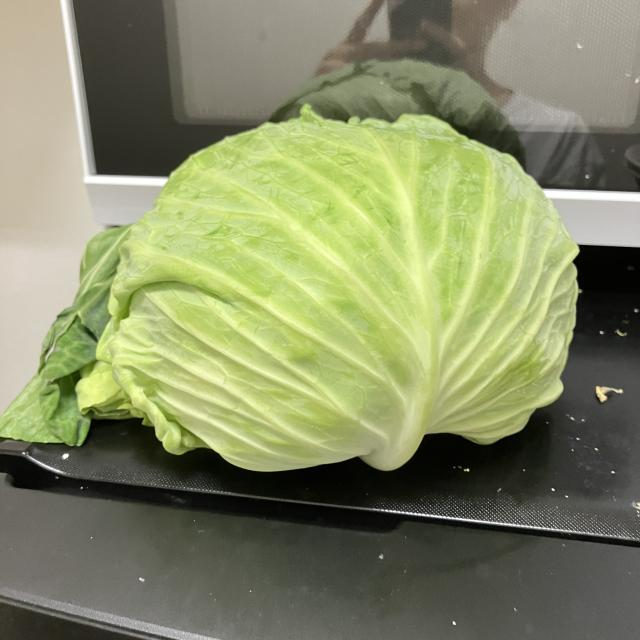cabbage: (0, 102, 583, 480)
